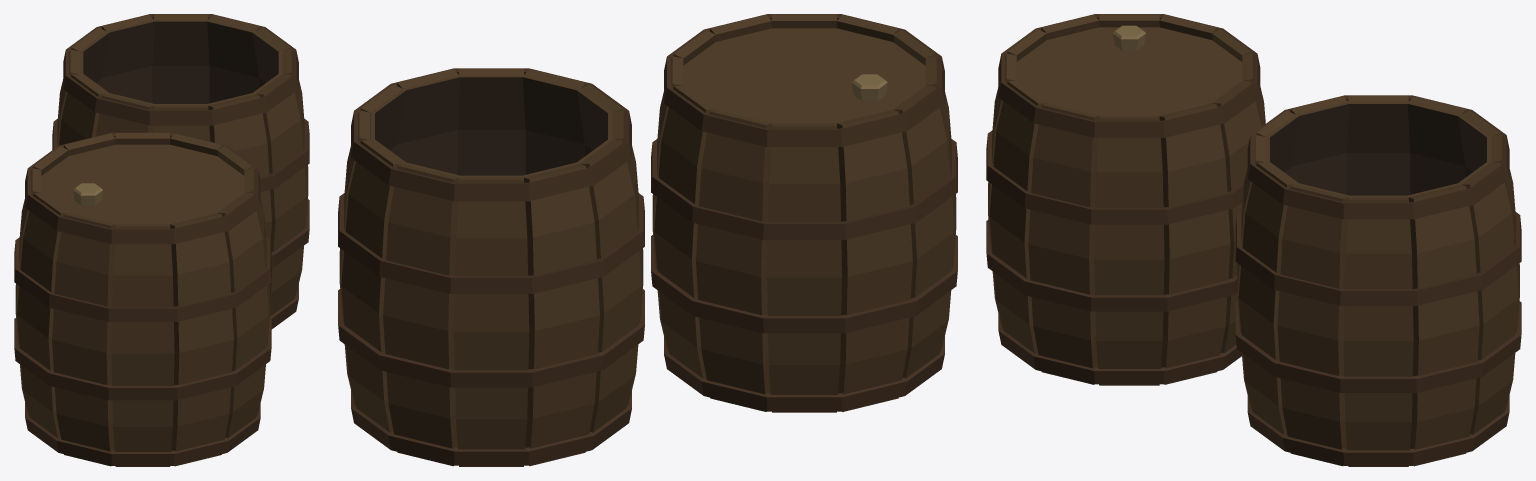
Rendered from LowPolyDungeonBarrels.glb.
The picture shows the model from 3 angles, left to right: view 1: azimuth 30°, elevation 25°; view 2: azimuth 150°, elevation 25°; view 3: azimuth 270°, elevation 25°; orthographic projection. The views are drawn at different scales.
Parts seen in each view (by area): view 1: Barrel_Closed.001, Barrel_Open.001; view 2: Barrel_Closed.001, Barrel_Open.001; view 3: Barrel_Open.001, Barrel_Closed.001.
Part boxes in pixels (x1,y1,x2,y2): Barrel_Closed.001: [14, 132, 271, 466]; Barrel_Open.001: [52, 14, 309, 329]; Barrel_Closed.001: [651, 14, 957, 412]; Barrel_Open.001: [338, 68, 644, 466]; Barrel_Open.001: [1235, 95, 1521, 466]; Barrel_Closed.001: [986, 14, 1265, 385].
Size of the model in its own units: 1.5 by 0.9418 by 1.67.
Materials: 2 (2 with a texture image).
